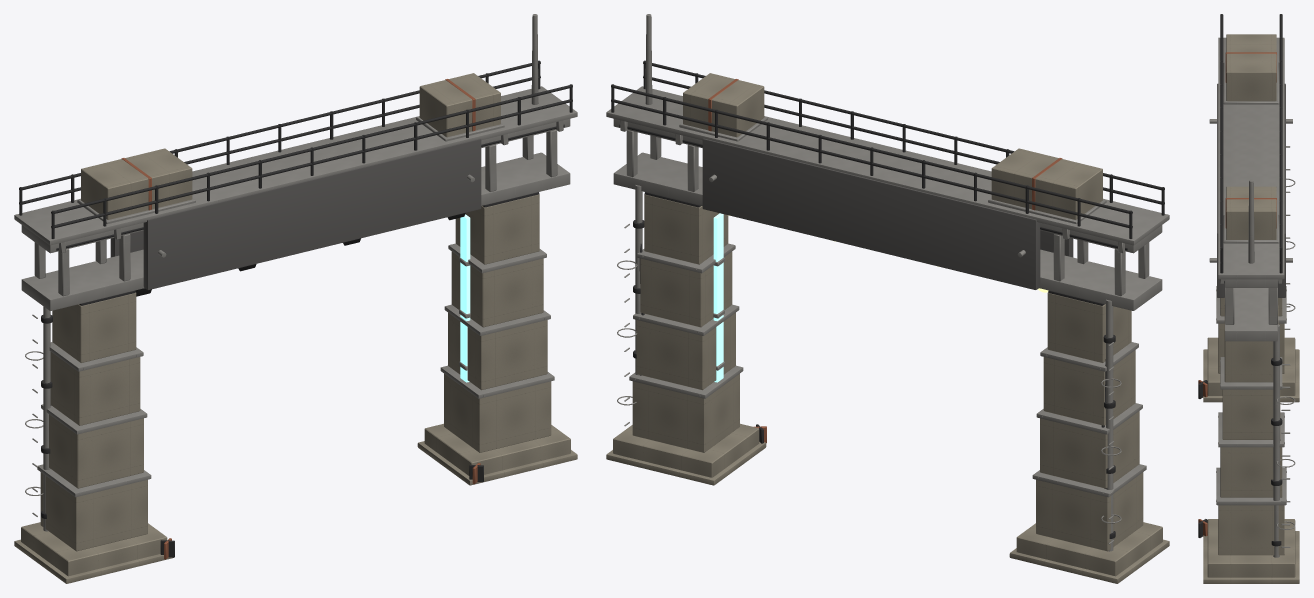
File: spaceport_gate.glb
3 renders of one model, left to right at view 1: azimuth 30°, elevation 25°; view 2: azimuth 150°, elevation 25°; view 3: azimuth 270°, elevation 25°, orthographic. The views are drawn at different scales.
Visible parts, largest first — view 1: sign-1, deck_plate, chord0, course1_0, course-1_0, course-1_1, course1_1, kit_-6.4, course-1_2, course1_2, course-1_3, course1_3 (+18 smaller); view 2: sign1, deck_plate, chord0, course1_0, course-1_0, course-1_1, course1_1, kit_-6.4, course-1_2, course1_2, course-1_3, course1_3 (+19 smaller); view 3: deck_plate, kit_-6.4, course1_0, course1_1, plinth1, course1_2, kit_6.6, chord0, course1_3, plinth-1, mast1, kerb1 (+19 smaller).
Boxes of the visible parts, x1,y1,x2,y2 form: sign-1: [143, 138, 481, 289]; deck_plate: [14, 86, 577, 245]; chord0: [21, 152, 570, 310]; course1_0: [444, 374, 551, 452]; course-1_0: [40, 472, 147, 551]; course-1_1: [49, 414, 143, 488]; course1_1: [448, 313, 547, 390]; kit_-6.4: [81, 148, 192, 219]; course-1_2: [50, 352, 140, 425]; course1_2: [451, 251, 543, 327]; course-1_3: [52, 292, 136, 362]; course1_3: [455, 194, 539, 264]; sign1: [702, 138, 1040, 289]; deck_plate: [606, 86, 1169, 245]; chord0: [613, 152, 1162, 310]; course1_0: [632, 374, 739, 452]; course-1_0: [1036, 472, 1143, 551]; course-1_1: [1040, 411, 1139, 488]; course1_1: [636, 313, 735, 390]; kit_-6.4: [991, 148, 1102, 219]; course-1_2: [1043, 350, 1135, 425]; course1_2: [640, 251, 732, 327]; course-1_3: [1047, 292, 1131, 362]; course1_3: [644, 194, 728, 264]; deck_plate: [1218, 37, 1284, 279]; kit_-6.4: [1226, 34, 1276, 101]; course1_0: [1218, 505, 1284, 555]; course1_1: [1220, 447, 1282, 497]; plinth1: [1207, 519, 1295, 577]; course1_2: [1222, 389, 1280, 439]; kit_6.6: [1226, 186, 1276, 239]; chord0: [1225, 287, 1277, 341]; course1_3: [1224, 305, 1278, 382]; plinth-1: [1207, 337, 1295, 395]; mast1: [1273, 324, 1279, 557]; kerb1: [1203, 531, 1299, 583].
Size of the model in its own units: 21.2 by 16.48 by 3.82.
Materials: 8 (3 with a texture image).
